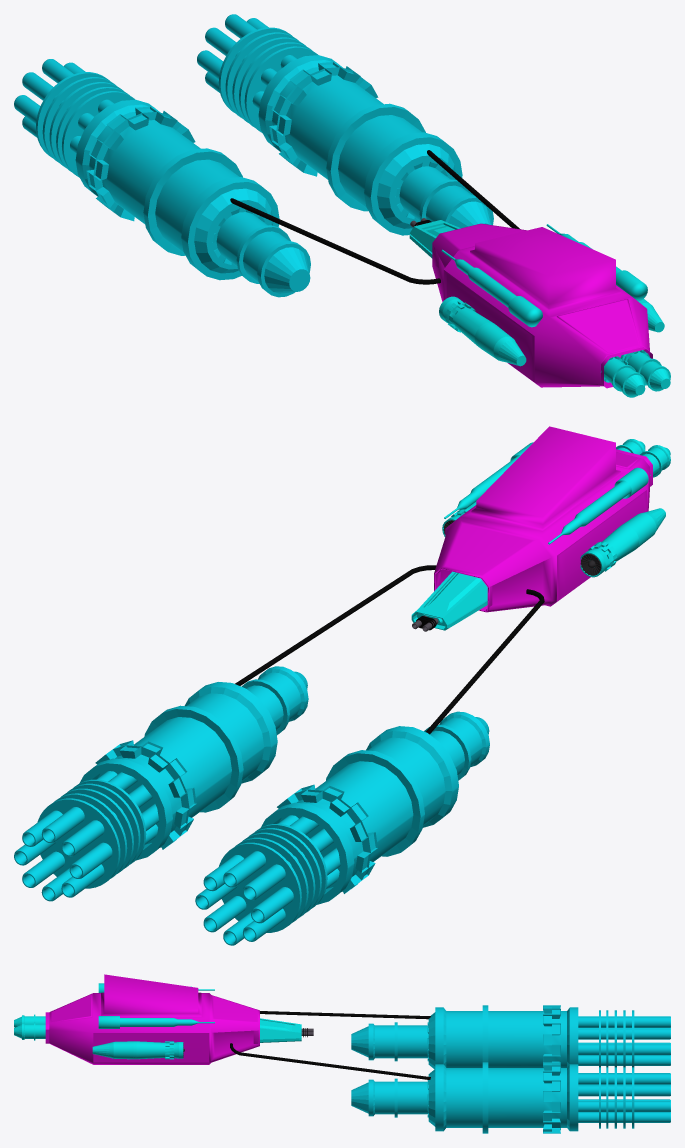
The model's file is PinkPod.fbx.
The picture shows the model from 3 angles, top to bottom: view 1: azimuth 30°, elevation 25°; view 2: azimuth 150°, elevation 25°; view 3: azimuth 270°, elevation 25°; orthographic projection. The views are drawn at different scales.
Visible parts, largest first — view 1: polySurface113, polySurface145, polySurface129, polySurface148, polySurface147, polySurface163, polySurface164, polySurface122, polySurface138, polySurface165, polySurface153, polySurface152 (+17 smaller); view 2: polySurface113, polySurface129, polySurface145, polySurface155, polySurface147, polySurface148, polySurface144, polySurface128, polySurface163, polySurface164, polySurface146, polySurface118 (+19 smaller); view 3: polySurface113, polySurface129, polySurface145, polySurface148, polySurface147, polySurface151, polySurface136, polySurface115, polySurface120, polySurface117, polySurface133, polySurface154 (+8 smaller).
Part boxes in pixels (left/top/right/bottom): polySurface113: left=432, top=223, right=652, bottom=388; polySurface145: left=75, top=99, right=279, bottom=280; polySurface129: left=258, top=55, right=462, bottom=235; polySurface148: left=212, top=208, right=310, bottom=297; polySurface147: left=395, top=162, right=493, bottom=228; polySurface163: left=439, top=296, right=526, bottom=366; polySurface164: left=441, top=249, right=542, bottom=327; polySurface122: left=244, top=46, right=317, bottom=132; polySurface138: left=62, top=91, right=134, bottom=177; polySurface165: left=230, top=198, right=440, bottom=284; polySurface153: left=601, top=356, right=645, bottom=397; polySurface152: left=620, top=350, right=670, bottom=391; polySurface113: left=434, top=426, right=652, bottom=612; polySurface129: left=79, top=682, right=277, bottom=860; polySurface145: left=261, top=726, right=458, bottom=904; polySurface155: left=411, top=571, right=487, bottom=630; polySurface147: left=241, top=666, right=308, bottom=735; polySurface148: left=424, top=711, right=489, bottom=780; polySurface144: left=219, top=842, right=301, bottom=932; polySurface128: left=37, top=798, right=120, bottom=888; polySurface163: left=580, top=508, right=665, bottom=577; polySurface164: left=548, top=467, right=648, bottom=544; polySurface146: left=235, top=565, right=436, bottom=685; polySurface118: left=61, top=784, right=152, bottom=856; polySurface113: left=45, top=974, right=259, bottom=1064; polySurface129: left=428, top=1062, right=578, bottom=1133; polySurface145: left=428, top=1005, right=578, bottom=1069; polySurface148: left=351, top=1022, right=428, bottom=1061; polySurface147: left=351, top=1078, right=428, bottom=1117; polySurface151: left=92, top=1041, right=183, bottom=1059; polySurface136: left=578, top=1028, right=670, bottom=1039; polySurface115: left=578, top=1073, right=670, bottom=1084; polySurface120: left=578, top=1085, right=670, bottom=1096; polySurface117: left=578, top=1101, right=670, bottom=1112; polySurface133: left=578, top=1044, right=670, bottom=1055; polySurface154: left=98, top=1016, right=214, bottom=1028.
Bounding box in the file's own units: 3.34 × 2.08 × 10.62.
